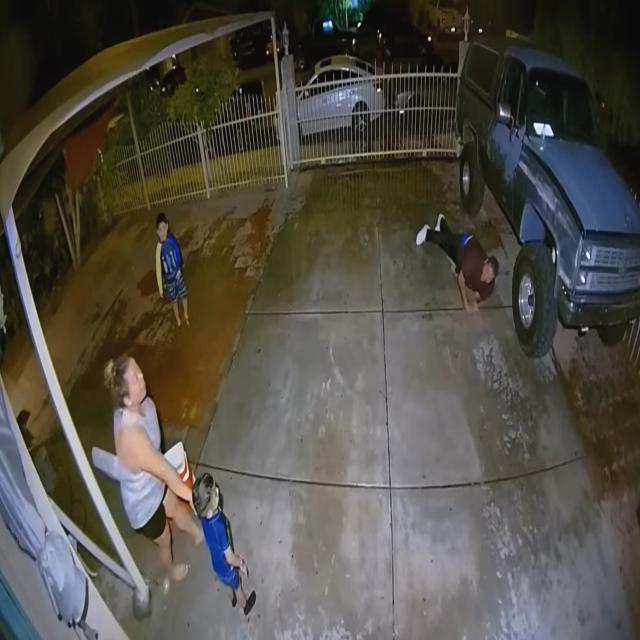fallen: (416, 214, 498, 312)
standing: (105, 356, 204, 580), (193, 473, 256, 615), (156, 212, 190, 327)
